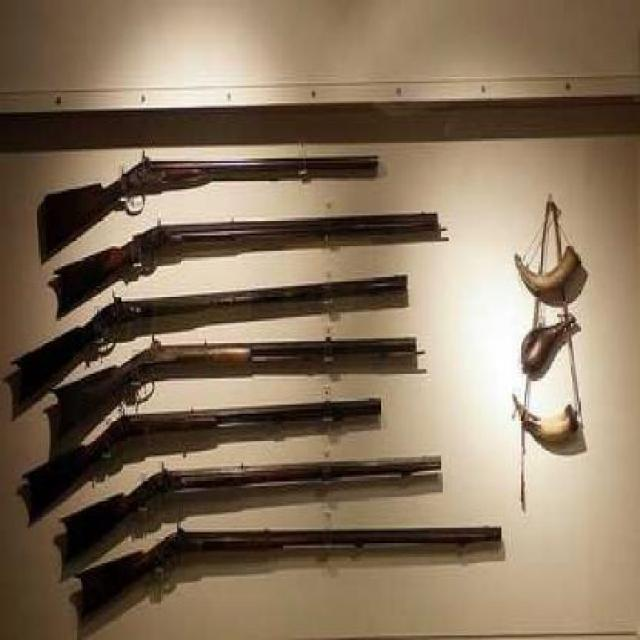weapon: (13, 272, 414, 408), (72, 520, 506, 628), (20, 393, 384, 518), (58, 452, 443, 566), (54, 210, 440, 308), (51, 334, 418, 436), (36, 150, 382, 258)
